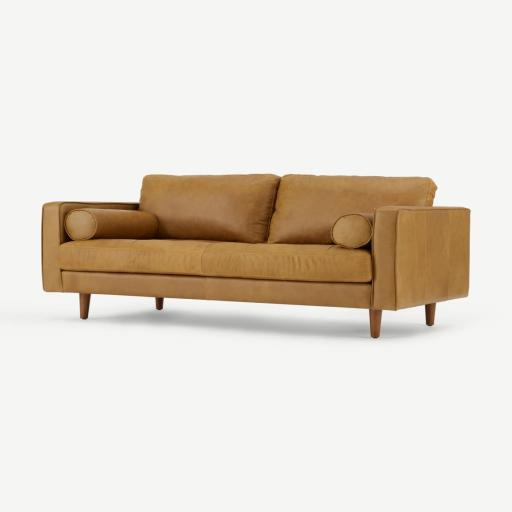back_cushion: (139, 174, 434, 243)
base: (62, 272, 370, 308)
left_arm: (373, 207, 469, 310)
legs: (369, 310, 382, 338), (80, 293, 90, 319), (426, 305, 435, 325), (156, 298, 163, 310)
right_arm: (42, 202, 137, 291)
seat_cushion: (58, 239, 371, 282)
two-seater: (0, 0, 511, 512)
